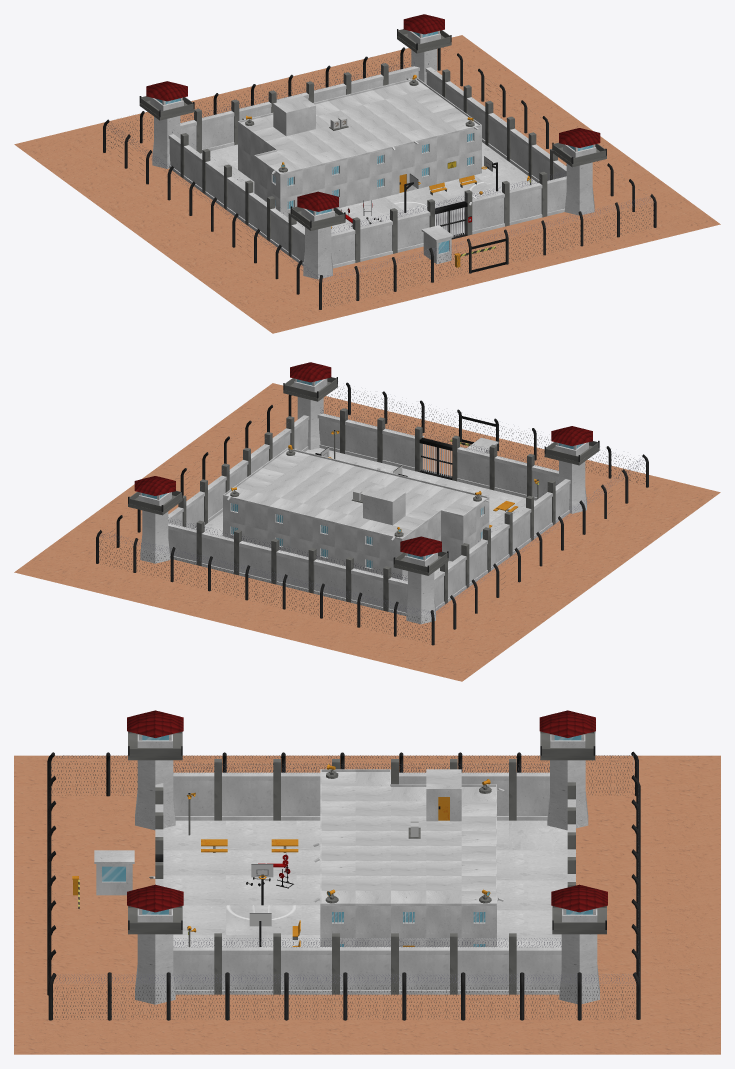
File: SM_Prison_SetPiece.fbx
The picture shows the model from 3 angles, top to bottom: view 1: azimuth 30°, elevation 25°; view 2: azimuth 150°, elevation 25°; view 3: azimuth 270°, elevation 25°; orthographic projection. The views are drawn at different scales.
Parts seen in each view (by area): view 1: SM_Guard_Tower3, SM_Guard_Tower1, SM_Guard_Tower4, SM_Guard_Tower2, SM_Large_Fence2, SM_Large_Fence3, SM_Large_Fence18, SM_Large_Fence17, SM_Large_Fence1, SM_Ground15, SM_Ground25, SM_Ground16 (+94 smaller); view 2: SM_Guard_Tower2, SM_Guard_Tower4, SM_Guard_Tower3, SM_Guard_Tower1, SM_Large_Fence2, SM_Large_Fence3, SM_Large_Fence1, SM_Large_Fence15, SM_Large_Fence18, SM_Large_Fence17, SM_Large_Fence16, SM_Large_Fence14 (+88 smaller); view 3: SM_Guard_Tower1, SM_Guard_Tower2, SM_Guard_Tower3, SM_Guard_Tower4, SM_Large_Fence26, SM_Large_Fence6, SM_Large_Fence9, SM_Large_Fence7, SM_Large_Fence8, SM_Large_Fence10, SM_Large_Fence11, SM_Large_Fence25 (+116 smaller).
Part boxes in pixels (<box>): SM_Guard_Tower3: <box>290,191,345,279</box>; SM_Guard_Tower1: <box>552,128,606,215</box>; SM_Guard_Tower4: <box>139,81,194,168</box>; SM_Guard_Tower2: <box>397,14,451,84</box>; SM_Large_Fence2: <box>464,187,504,235</box>; SM_Large_Fence3: <box>502,178,542,226</box>; SM_Large_Fence18: <box>352,215,392,262</box>; SM_Large_Fence17: <box>194,106,234,153</box>; SM_Large_Fence1: <box>390,205,430,253</box>; SM_Ground15: <box>221,285,291,314</box>; SM_Ground25: <box>169,247,239,276</box>; SM_Ground16: <box>247,304,317,333</box>; SM_Guard_Tower2: <box>128,476,182,563</box>; SM_Guard_Tower4: <box>393,536,448,624</box>; SM_Guard_Tower3: <box>544,426,599,513</box>; SM_Guard_Tower1: <box>283,362,337,449</box>; SM_Large_Fence2: <box>382,424,422,471</box>; SM_Large_Fence3: <box>345,413,385,462</box>; SM_Large_Fence1: <box>457,441,497,490</box>; SM_Large_Fence15: <box>276,544,316,593</box>; SM_Large_Fence18: <box>494,451,534,497</box>; SM_Large_Fence17: <box>351,563,391,611</box>; SM_Large_Fence16: <box>313,553,353,602</box>; SM_Large_Fence14: <box>239,536,279,584</box>; SM_Guard_Tower1: <box>127,884,183,1004</box>; SM_Guard_Tower2: <box>551,884,607,1004</box>; SM_Guard_Tower3: <box>127,710,183,830</box>; SM_Guard_Tower4: <box>539,710,595,830</box>; SM_Large_Fence26: <box>214,759,273,820</box>; SM_Large_Fence6: <box>214,933,273,994</box>; SM_Large_Fence9: <box>391,933,449,994</box>; SM_Large_Fence7: <box>273,933,331,994</box>; SM_Large_Fence8: <box>332,933,390,994</box>; SM_Large_Fence10: <box>450,933,508,994</box>; SM_Large_Fence11: <box>509,933,561,994</box>; SM_Large_Fence25: <box>273,759,330,820</box>.
Bounding box in the file's own units: 30 × 4.92 × 30.
